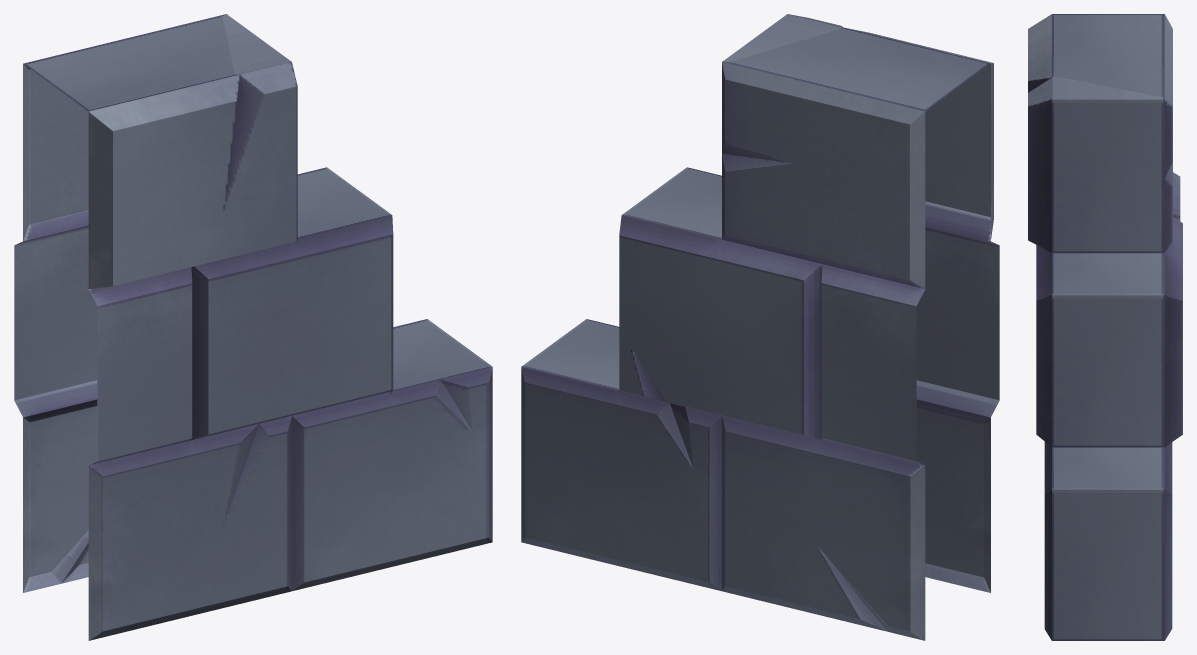
Rendered from wall5.fbx.
The picture shows the model from 3 angles, left to right: view 1: azimuth 30°, elevation 25°; view 2: azimuth 150°, elevation 25°; view 3: azimuth 270°, elevation 25°; orthographic projection. The views are drawn at different scales.
Visible parts, largest first — view 1: ModularAssetsDisplay.010; view 2: ModularAssetsDisplay.010; view 3: ModularAssetsDisplay.010.
Part boxes in pixels (left/top/right/bottom): ModularAssetsDisplay.010: left=14, top=14, right=492, bottom=640; ModularAssetsDisplay.010: left=521, top=14, right=999, bottom=640; ModularAssetsDisplay.010: left=1028, top=14, right=1182, bottom=640.
Size of the model in its own units: 66.53 by 83.26 by 25.56.
